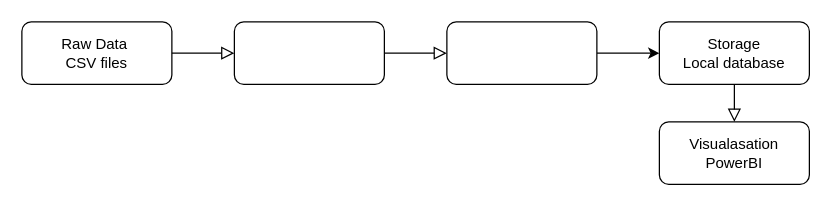
This 831x206 diagram has some shape labels left out. The box of each missing label's shape, as (x1, y1, x2, y2) in pixels:
Automated testing: (446, 21, 597, 84)
Transformation Python Data Cleaner Application: (233, 21, 384, 84)
